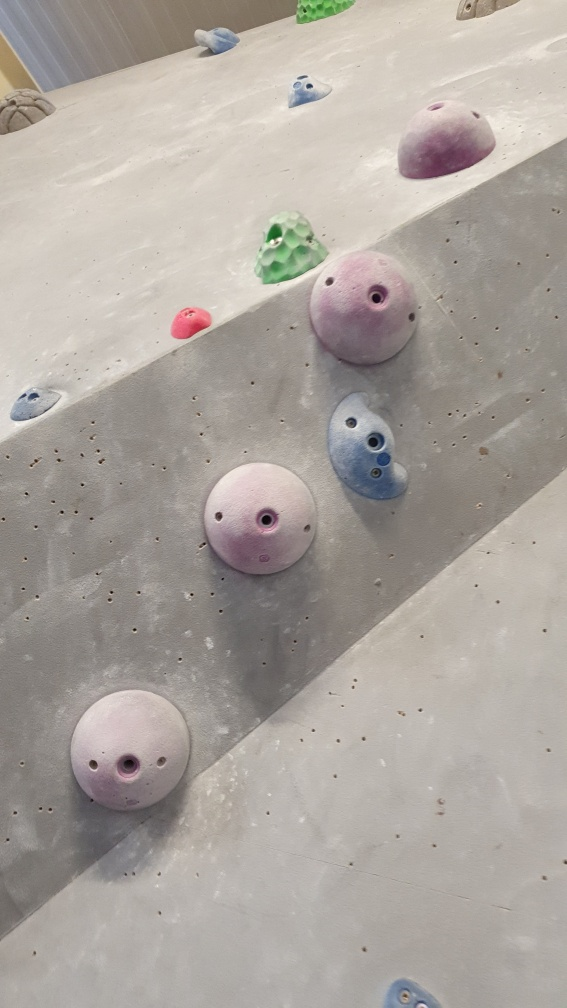Jug: (328, 392, 414, 505), (250, 208, 332, 282), (193, 23, 244, 56)
Pinch: (166, 300, 213, 342)
Sloper: (70, 683, 196, 815), (199, 459, 321, 579), (312, 248, 422, 372), (394, 95, 499, 183)
